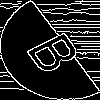B: (25, 25, 93, 77)
